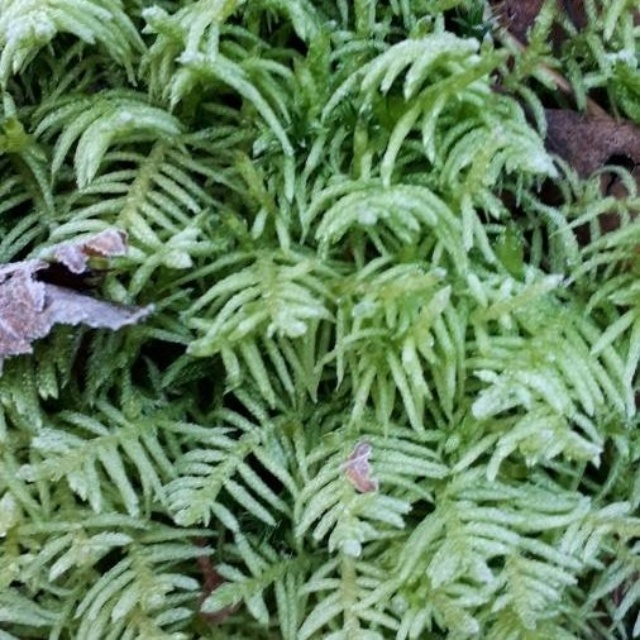obstacle: (66, 46, 608, 608)
